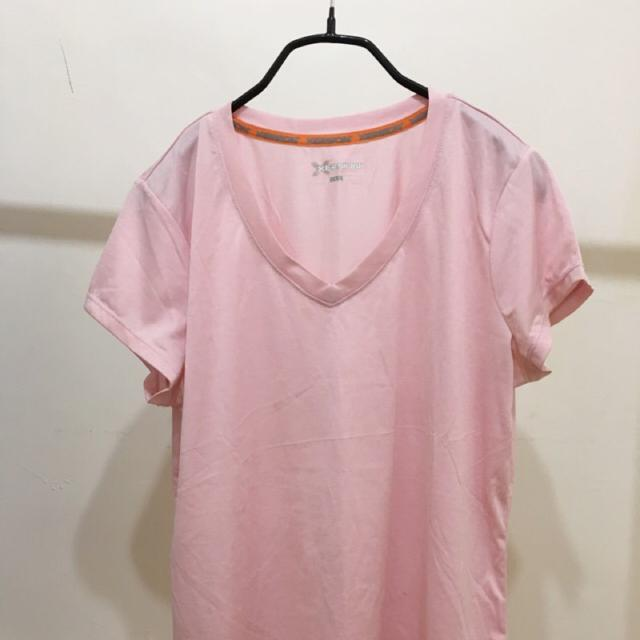Tops: (93, 89, 589, 640)
